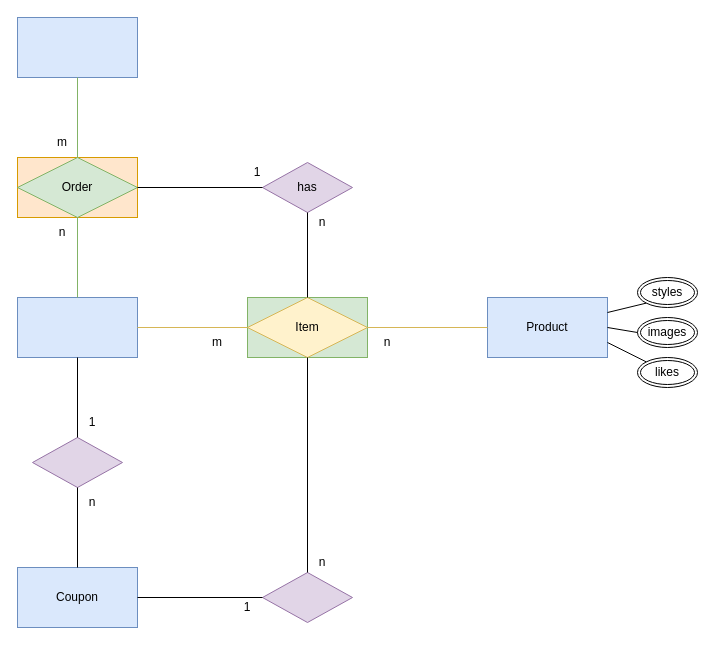
Image size: 715x645. Some labels were removed from this diagram. The centre of each missing label's shape, as x and y in pixels:
"Customer" belongs at pixel 77 47.
"issue" belongs at pixel 77 462.
"Store" belongs at pixel 77 327.
"use" belongs at pixel 307 597.
